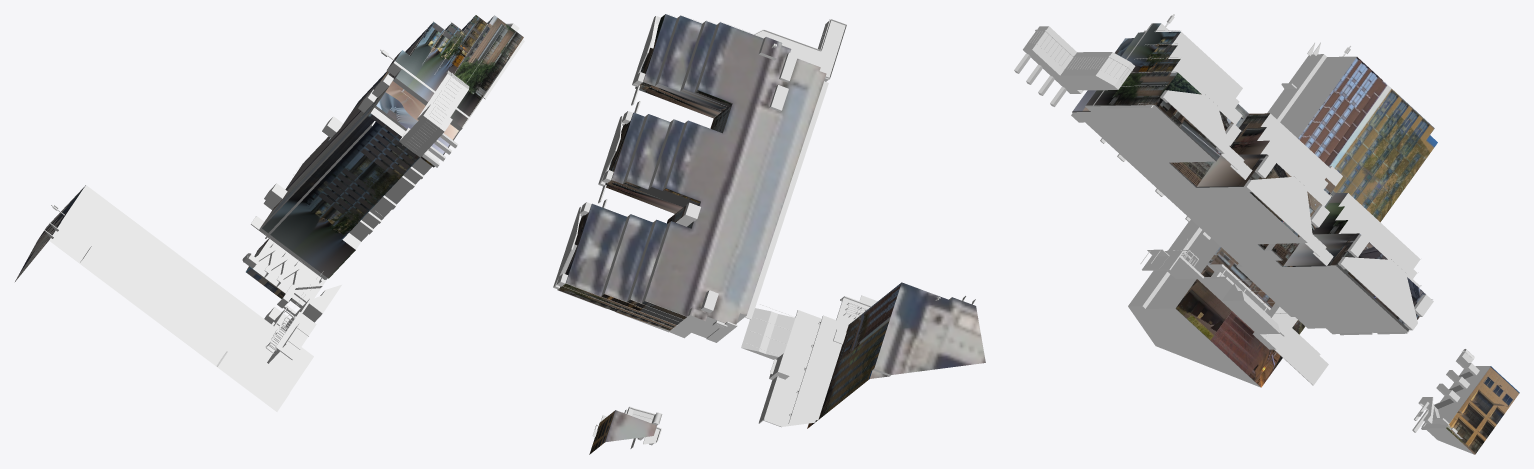
The model's file is 39950_bldg_Building.glb.
3 renders of one model, left to right at view 1: azimuth 30°, elevation 25°; view 2: azimuth 150°, elevation 25°; view 3: azimuth 270°, elevation 25°, orthographic. The views are drawn at different scales.
Bounding box in the file's own units: 128 × 107 × 114.
Materials: 4 (3 with a texture image).
